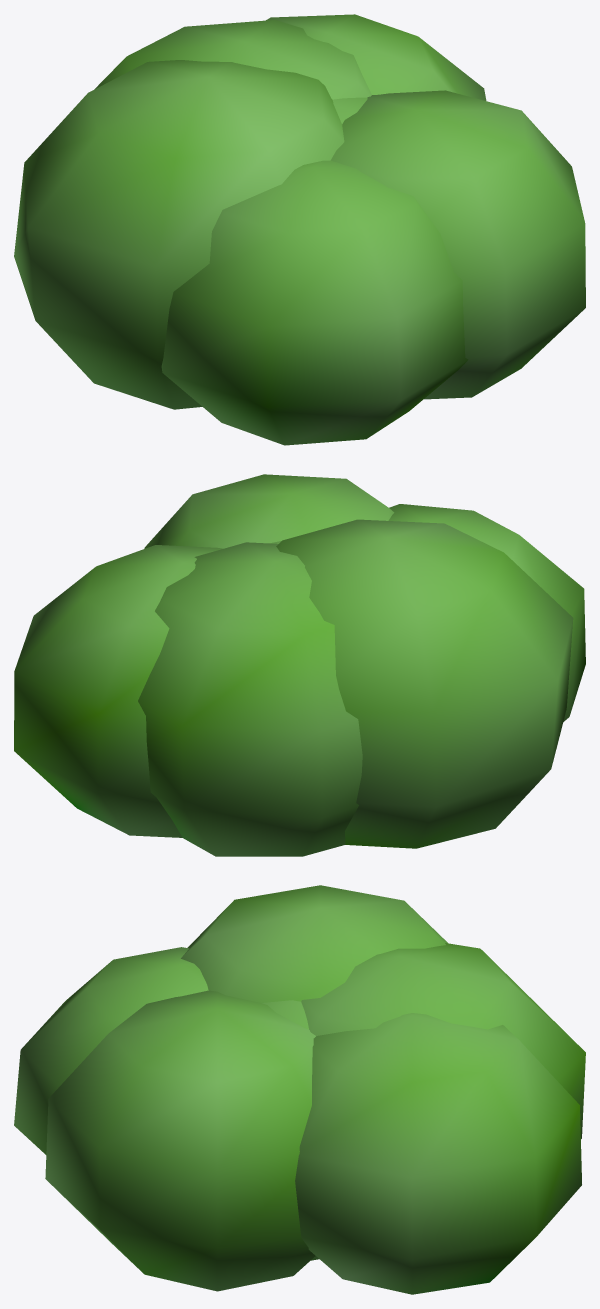
The model's file is world_bush_plain_a.fbx.
The picture shows the model from 3 angles, top to bottom: view 1: azimuth 30°, elevation 25°; view 2: azimuth 150°, elevation 25°; view 3: azimuth 270°, elevation 25°; orthographic projection. The views are drawn at different scales.
Parts seen in each view (by area): view 1: world_bush_plain_a; view 2: world_bush_plain_a; view 3: world_bush_plain_a.
Boxes of the visible parts, box(x1,y1,x2,y2) form: world_bush_plain_a: box(14, 14, 585, 445); world_bush_plain_a: box(14, 474, 585, 856); world_bush_plain_a: box(14, 885, 585, 1294).
Size of the model in its own units: 243 by 141 by 249.
